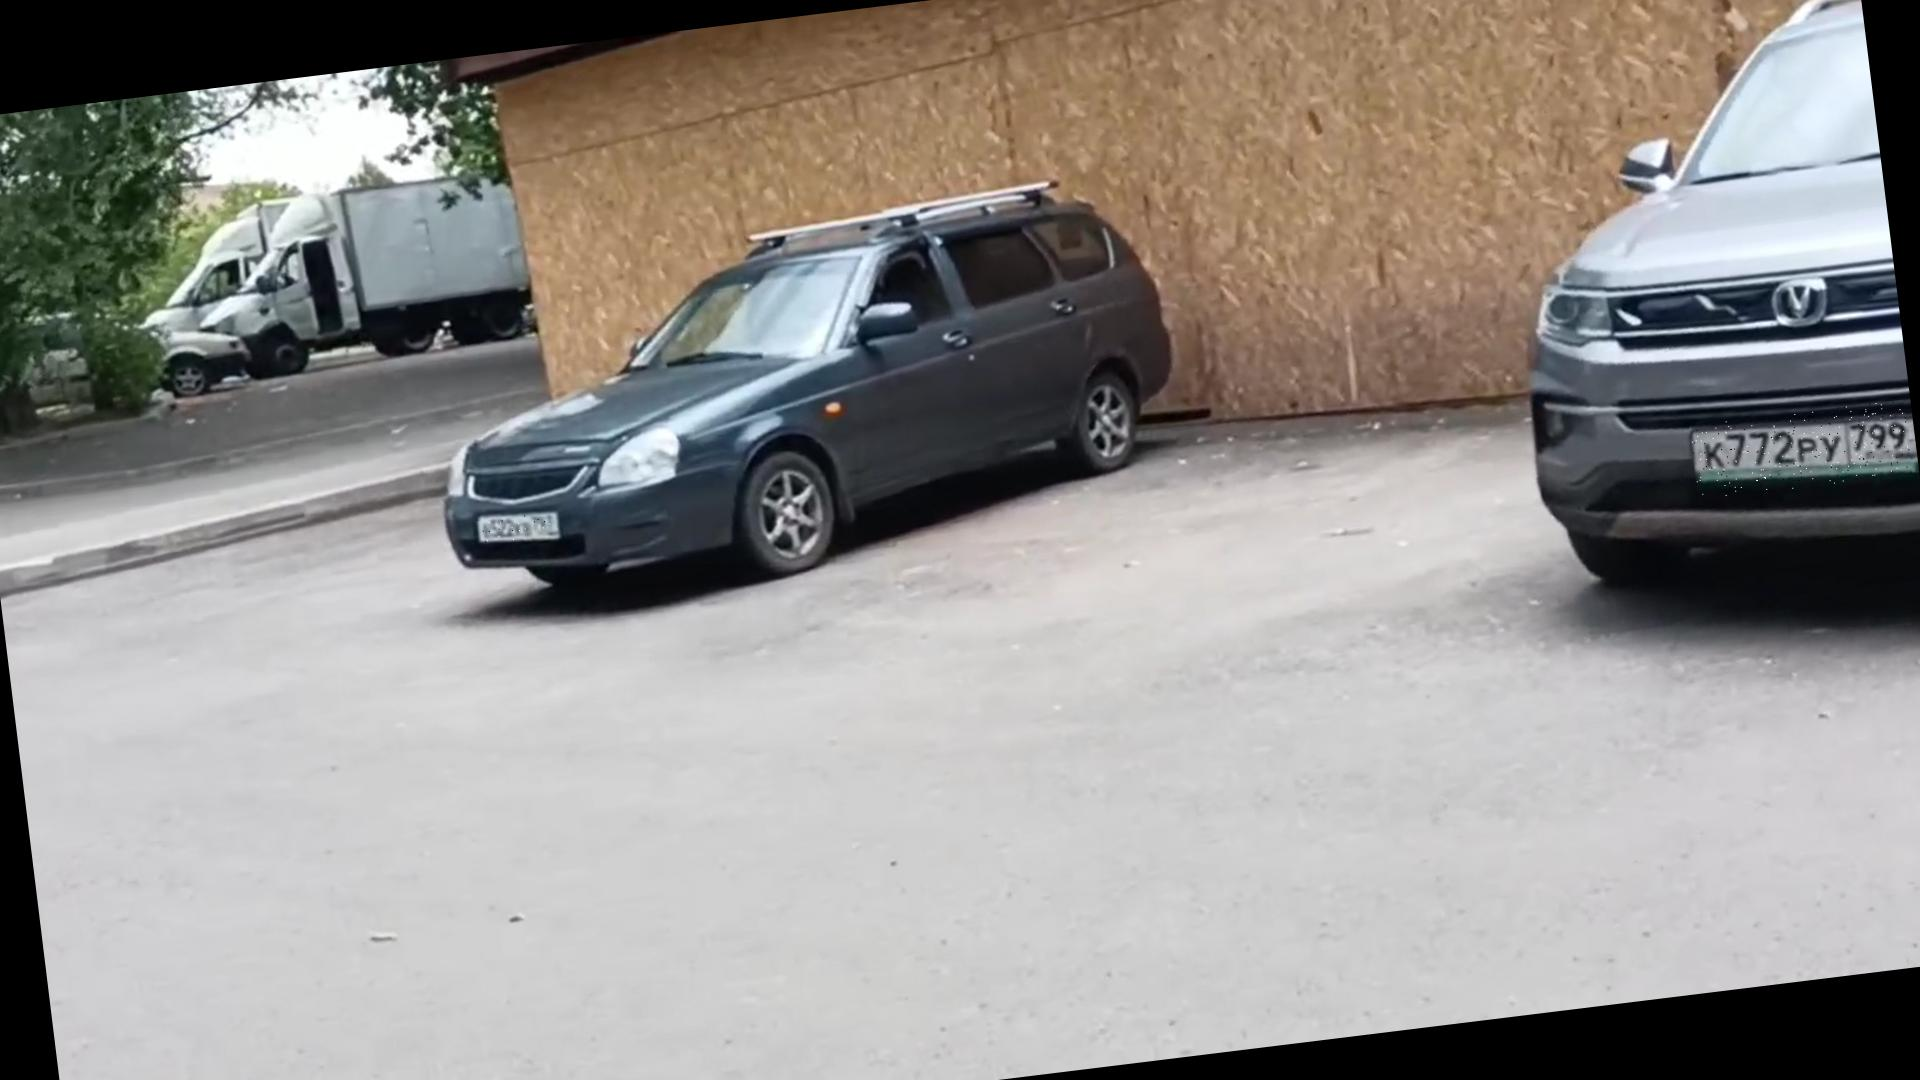plate: (1691, 401, 1914, 502), (473, 513, 556, 547)
